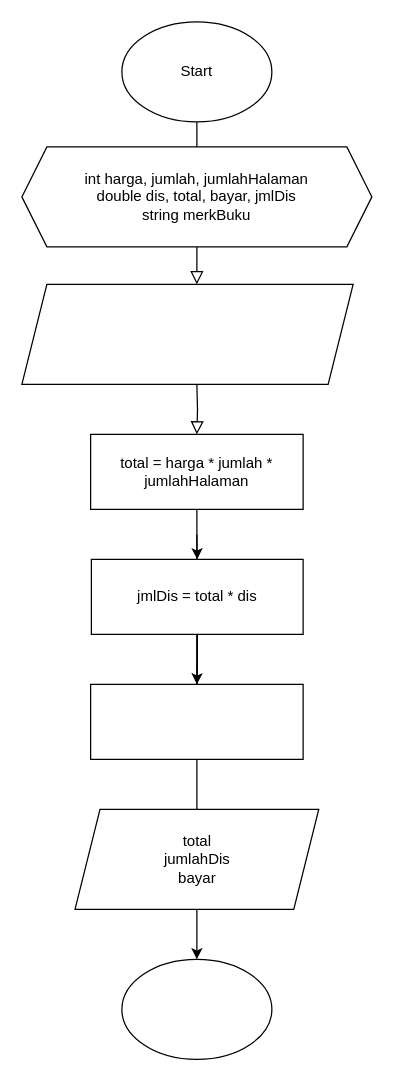
Some shapes in this 394 by 1081 pixel diagram are drawn without their labels. Each missing label, with the centre of its shape:
bayar = total - jmlDis: point 196,721
end: point 196,1008
harga, jumlah, jumlahHalaman, merkBuku: point 187,333
